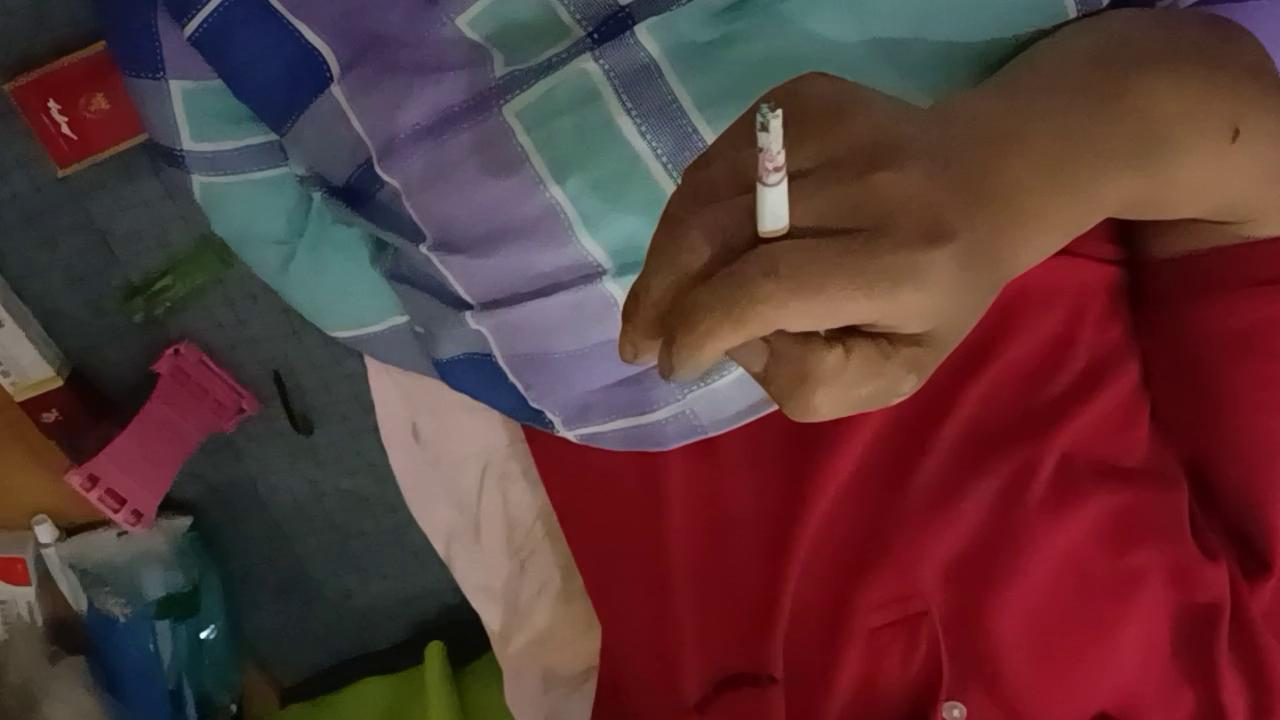smoke: (755, 102, 791, 274)
